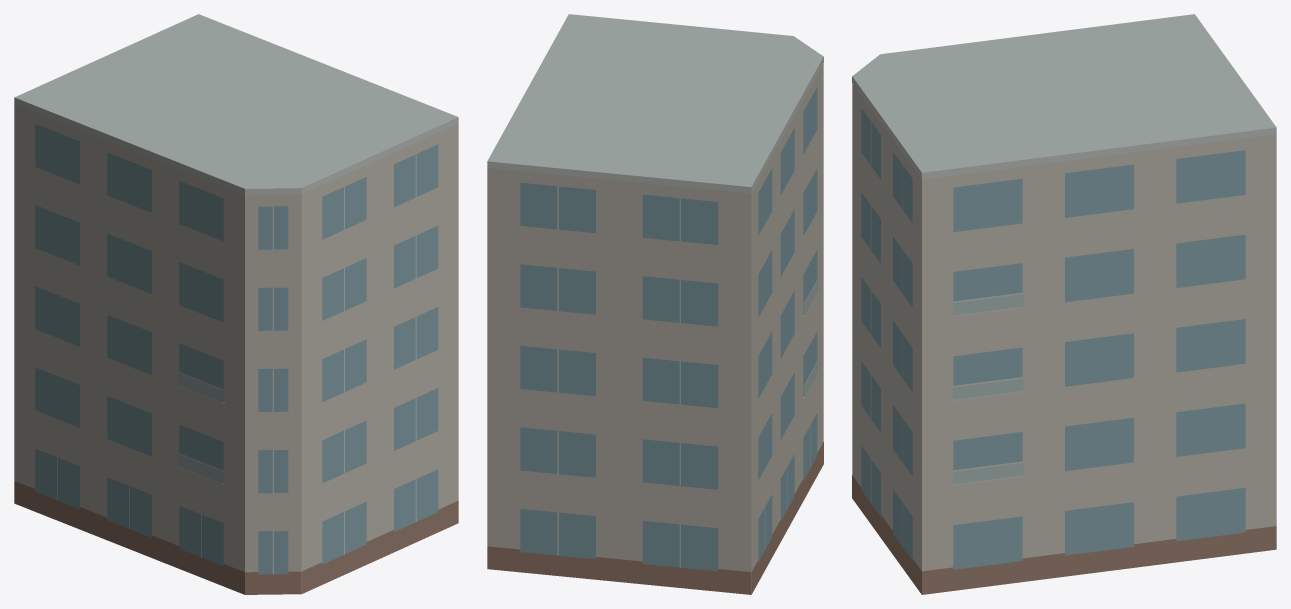
Rendered from survey-upis-32757783.glb.
The picture shows the model from 3 angles, left to right: view 1: azimuth 30°, elevation 25°; view 2: azimuth 150°, elevation 25°; view 3: azimuth 270°, elevation 25°; orthographic projection. The views are drawn at different scales.
Parts seen in each view (by area): view 1: survey-upis-32757783.tmp; view 2: survey-upis-32757783.tmp; view 3: survey-upis-32757783.tmp.
Boxes of the visible parts, bbox=[...] form: survey-upis-32757783.tmp: bbox=[14, 14, 458, 594]; survey-upis-32757783.tmp: bbox=[487, 14, 823, 594]; survey-upis-32757783.tmp: bbox=[852, 14, 1276, 594].
Bounding box in the file's own units: 12.52 × 15.5 × 14.14.
